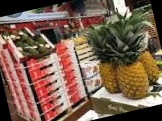Pineapple: (114, 17, 151, 101)
